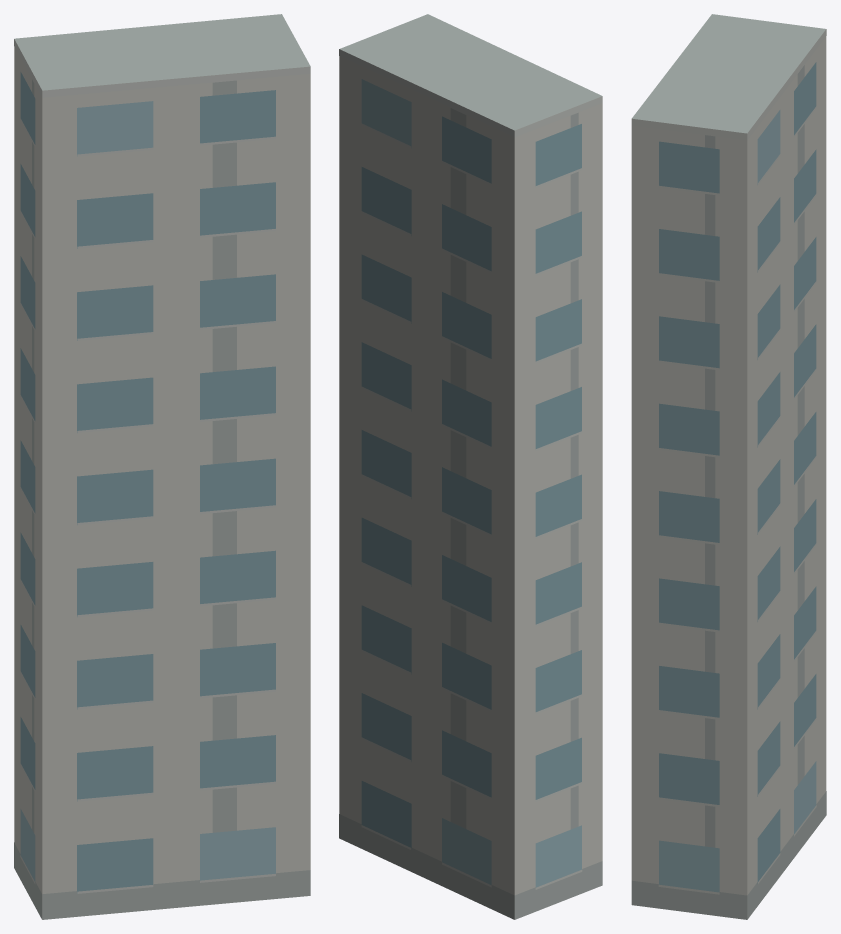
The model's file is survey-upis-32533356.glb.
3 views of the same model, side by side, from view 1: azimuth 30°, elevation 25°; view 2: azimuth 150°, elevation 25°; view 3: azimuth 270°, elevation 25° (orthographic). The views are drawn at different scales.
Parts seen in each view (by area): view 1: survey-upis-32533356.tmp; view 2: survey-upis-32533356.tmp; view 3: survey-upis-32533356.tmp.
Boxes of the visible parts, <box> form: survey-upis-32533356.tmp: <box>14,14,310,919</box>; survey-upis-32533356.tmp: <box>339,14,602,919</box>; survey-upis-32533356.tmp: <box>631,14,826,919</box>.
Bounding box in the file's own units: 8.96 × 27.45 × 6.17.
